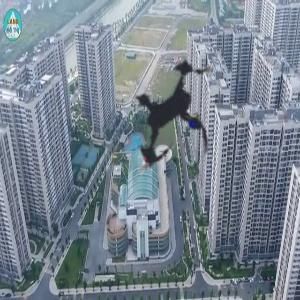drone: (61, 2, 283, 224)
